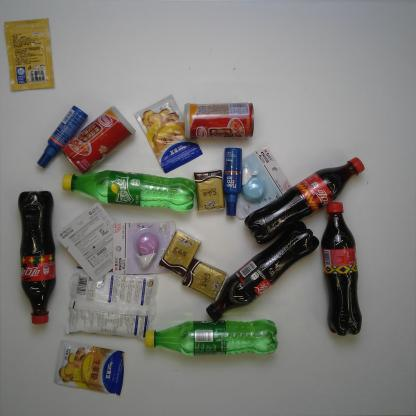Canned Food: (61, 103, 139, 176), (183, 100, 256, 141)
Drink: (204, 220, 320, 323), (244, 156, 366, 245), (60, 169, 197, 214), (319, 200, 363, 338), (16, 187, 58, 326), (143, 318, 279, 359)
Personal Hygiene: (34, 102, 90, 171), (220, 145, 244, 218)
Seasoner: (63, 265, 159, 339), (134, 92, 206, 176), (52, 338, 128, 400), (2, 16, 58, 94)
Stationery: (54, 201, 116, 283), (232, 146, 293, 221), (110, 219, 176, 276)
Tissue: (157, 229, 203, 277), (180, 258, 228, 300), (192, 169, 226, 213)
